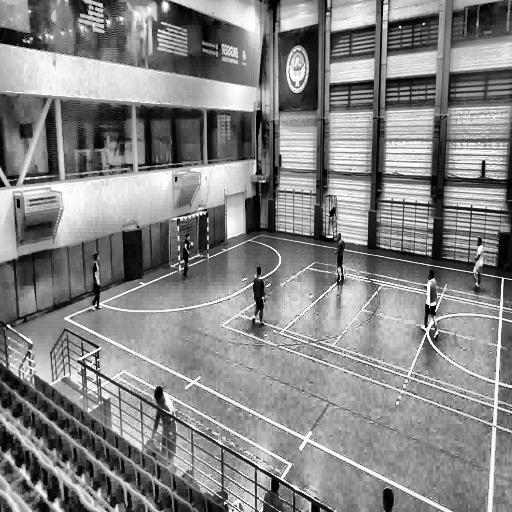ball: (189, 240, 194, 250)
player: (152, 386, 177, 467), (424, 268, 439, 338), (253, 266, 265, 326), (182, 232, 196, 278), (473, 236, 485, 288), (93, 252, 102, 310), (335, 233, 345, 284)
